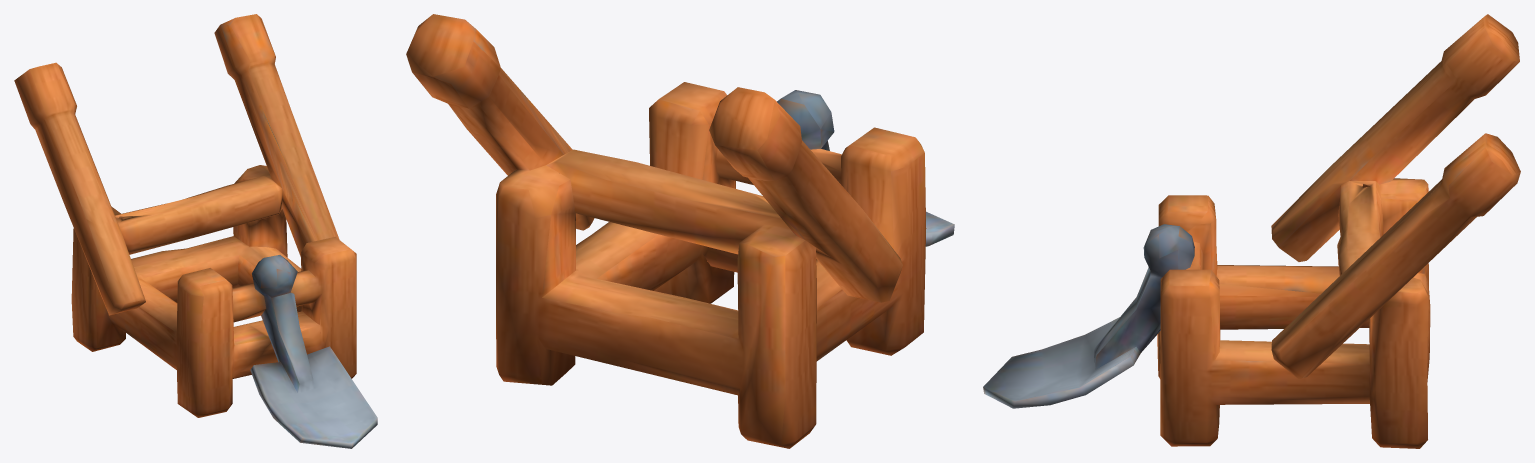
Rendered from lg-farm-plough.glb.
The picture shows the model from 3 angles, left to right: view 1: azimuth 30°, elevation 25°; view 2: azimuth 150°, elevation 25°; view 3: azimuth 270°, elevation 25°; orthographic projection. The views are drawn at different scales.
Parts seen in each view (by area): view 1: geometry_0; view 2: geometry_0; view 3: geometry_0.
Boxes of the visible parts, x1,y1,x2,y2 form: geometry_0: (14,14,377,448); geometry_0: (406,14,954,448); geometry_0: (983,14,1520,448).
Size of the model in its own units: 0.6256 by 0.661 by 1.
1 material, 1 textured.
